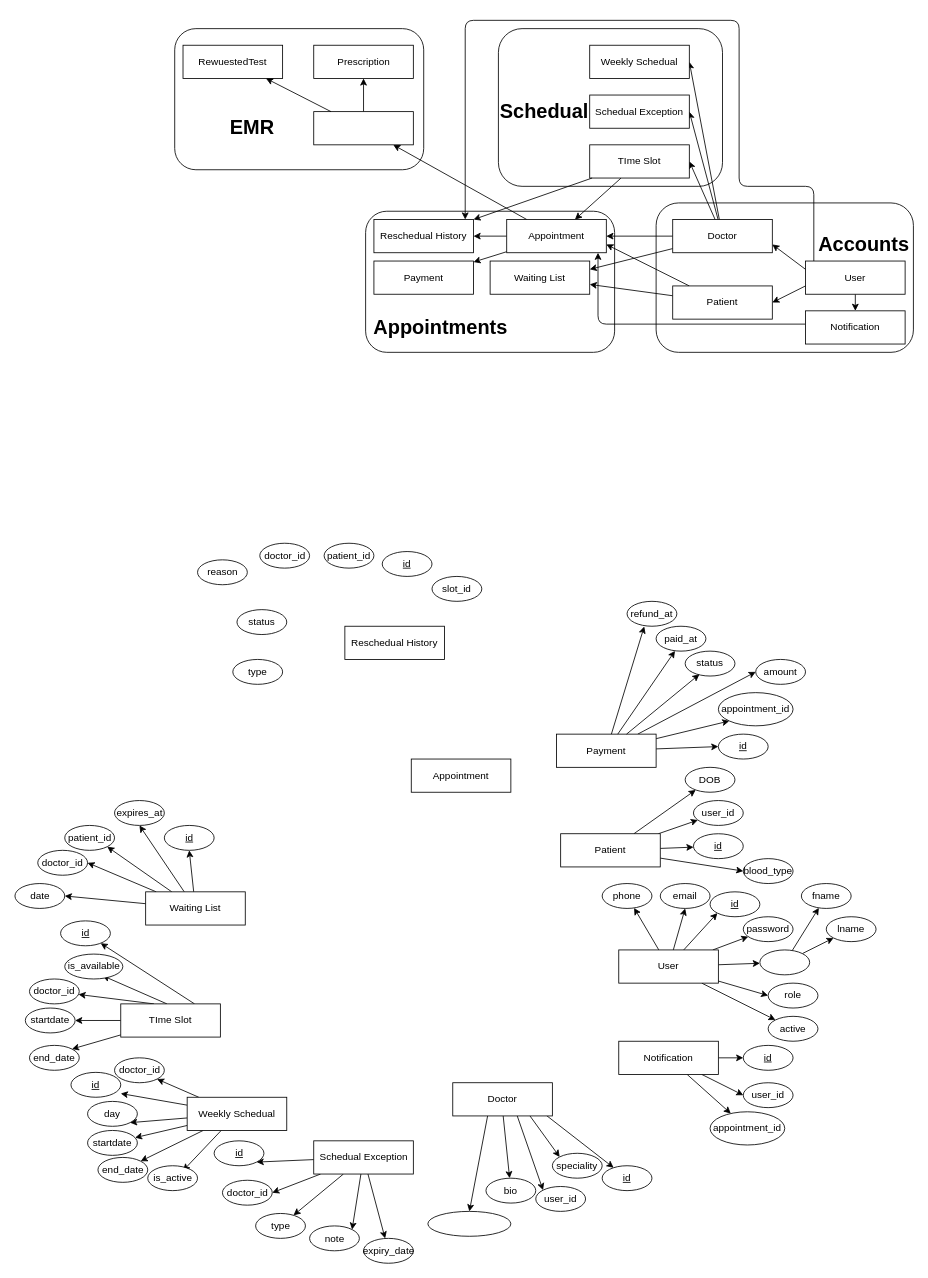
The diagram is 928 pixels wide and 1278 high, and some of its shapes have lost their labels. The box of each missing label's shape, as (x1, y1, x2, y2) in pixels:
consult_duration: (427, 1211, 511, 1236)
Consultation: (313, 111, 413, 145)
name: (759, 949, 810, 975)
